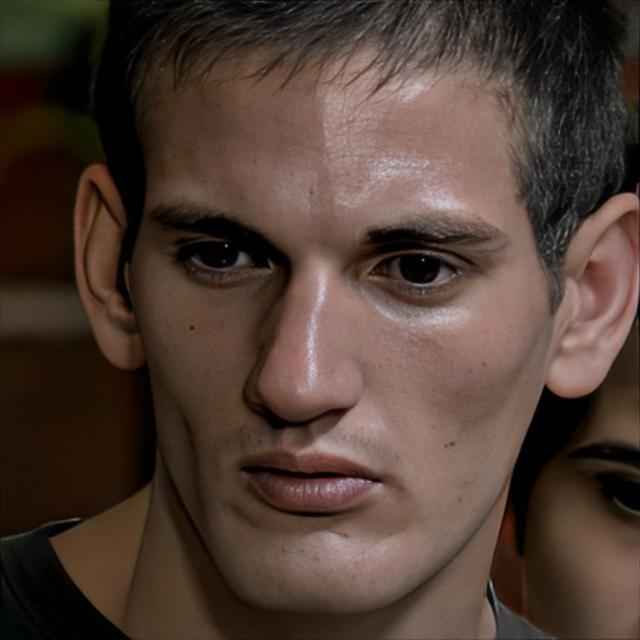neutral: (132, 29, 563, 618)
